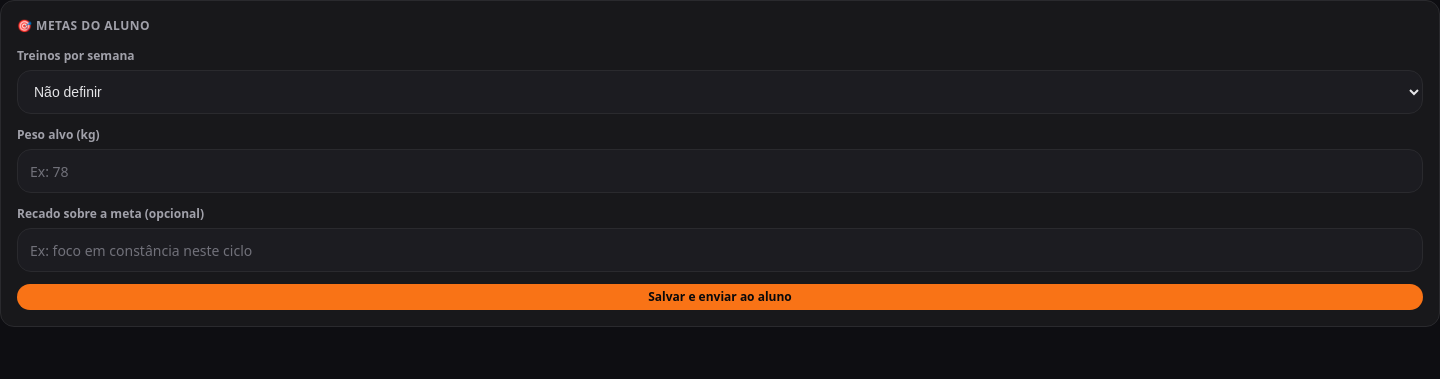
Test case: ClientGoals › peso alvo inválido avisa
Type "abc" into the field labelled "Peso alvo (kg)" at (720, 171), box [17, 149, 1423, 193]
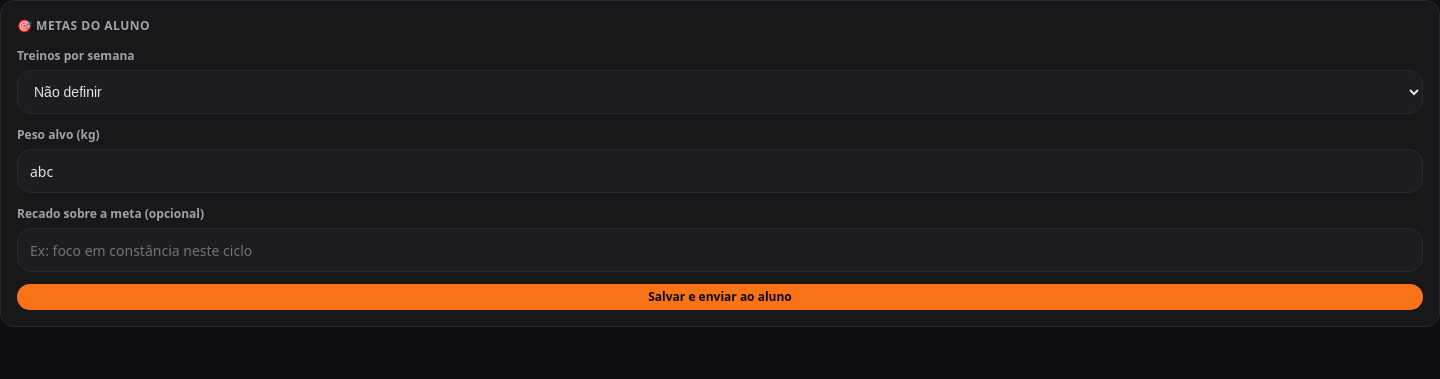
Click the button "Salvar e enviar ao aluno" at (720, 297), box [17, 284, 1423, 310]
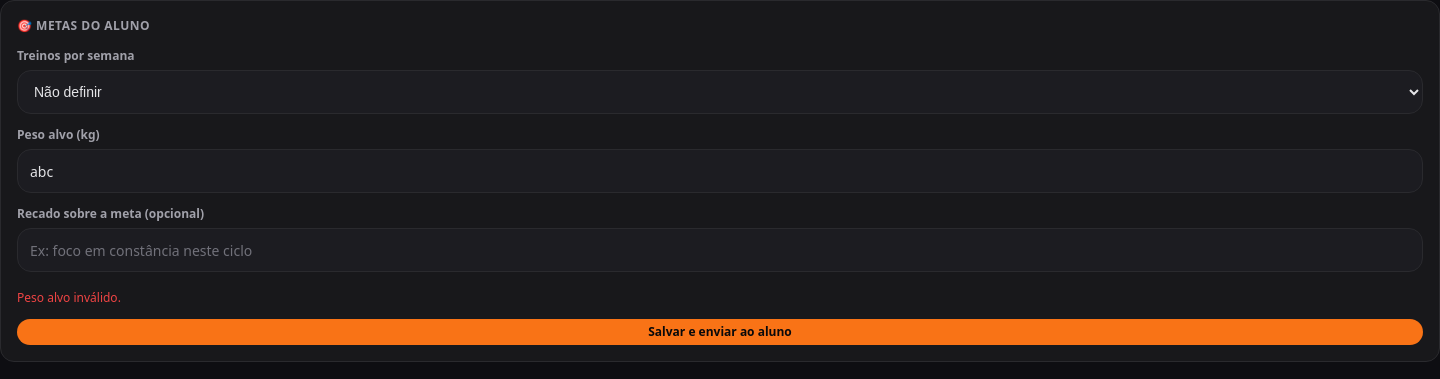
Expected: the message reads "Peso alvo inválido.", [17, 289, 121, 306]
